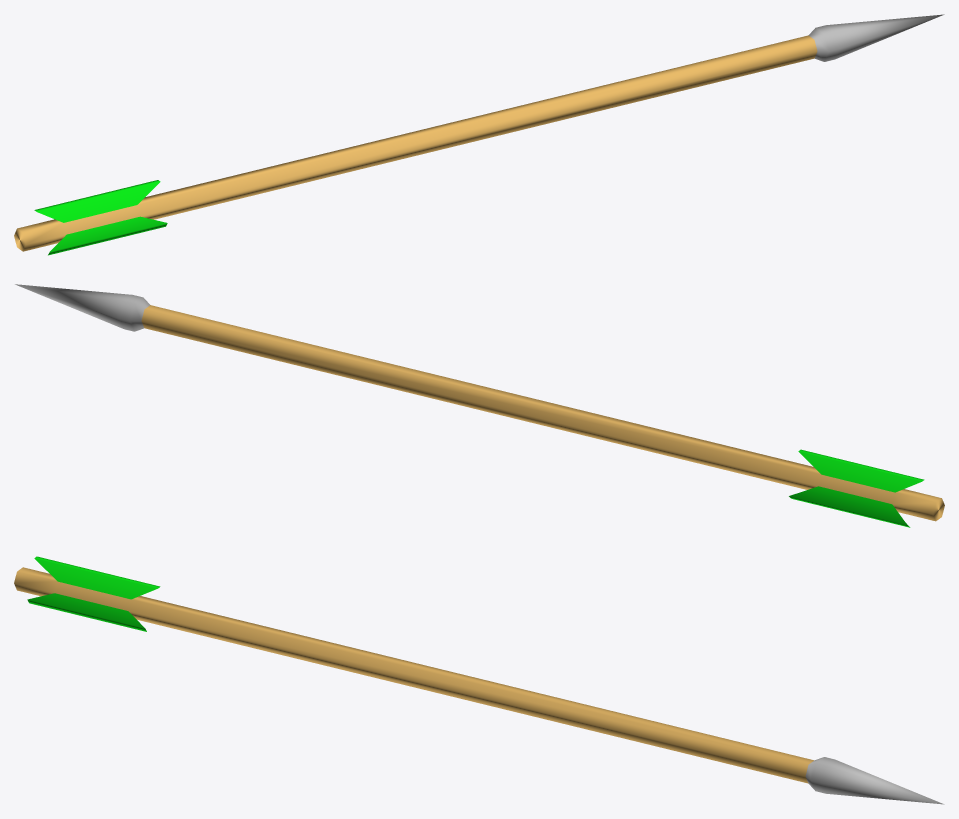
File: Arrow.fbx
3 views of the same model, one above another, from view 1: azimuth 30°, elevation 25°; view 2: azimuth 150°, elevation 25°; view 3: azimuth 330°, elevation 25° (orthographic).
Parts seen in each view (by area): view 1: Arrow; view 2: Arrow; view 3: Arrow.
Part boxes in pixels (<box>): Arrow: <box>14,14,944,255</box>; Arrow: <box>15,284,944,527</box>; Arrow: <box>14,556,944,804</box>.
Size of the model in its own units: 223 by 10.28 by 9.24.
